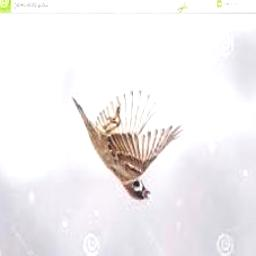Sparrow: (72, 90, 186, 201)
